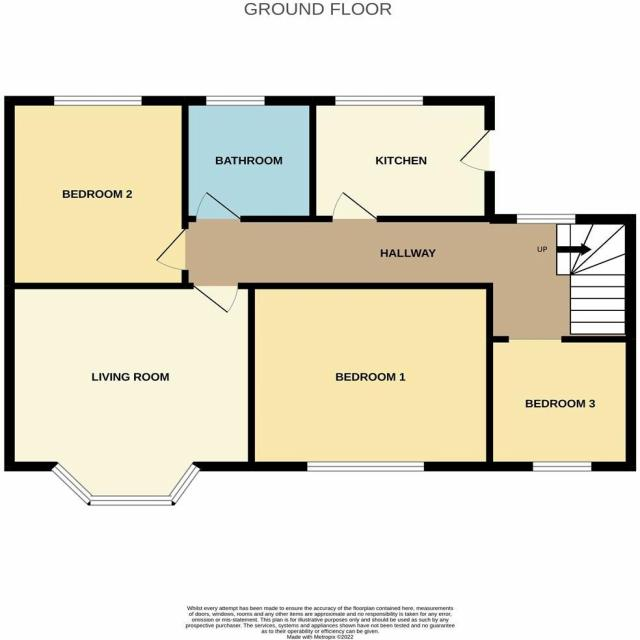DOOR: (458, 128, 495, 173), (154, 227, 189, 271), (192, 282, 239, 314), (195, 191, 242, 222), (331, 191, 378, 222)
ROOM: (4, 282, 256, 507), (247, 282, 494, 472), (4, 95, 189, 289), (309, 96, 495, 224), (486, 336, 636, 472)
WINDOW: (48, 460, 203, 507), (305, 460, 426, 472), (53, 95, 143, 107), (334, 95, 424, 106), (516, 213, 577, 225), (205, 95, 266, 106), (532, 461, 592, 472)
